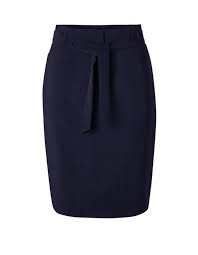F_tailored skirt: (34, 13, 162, 225)
